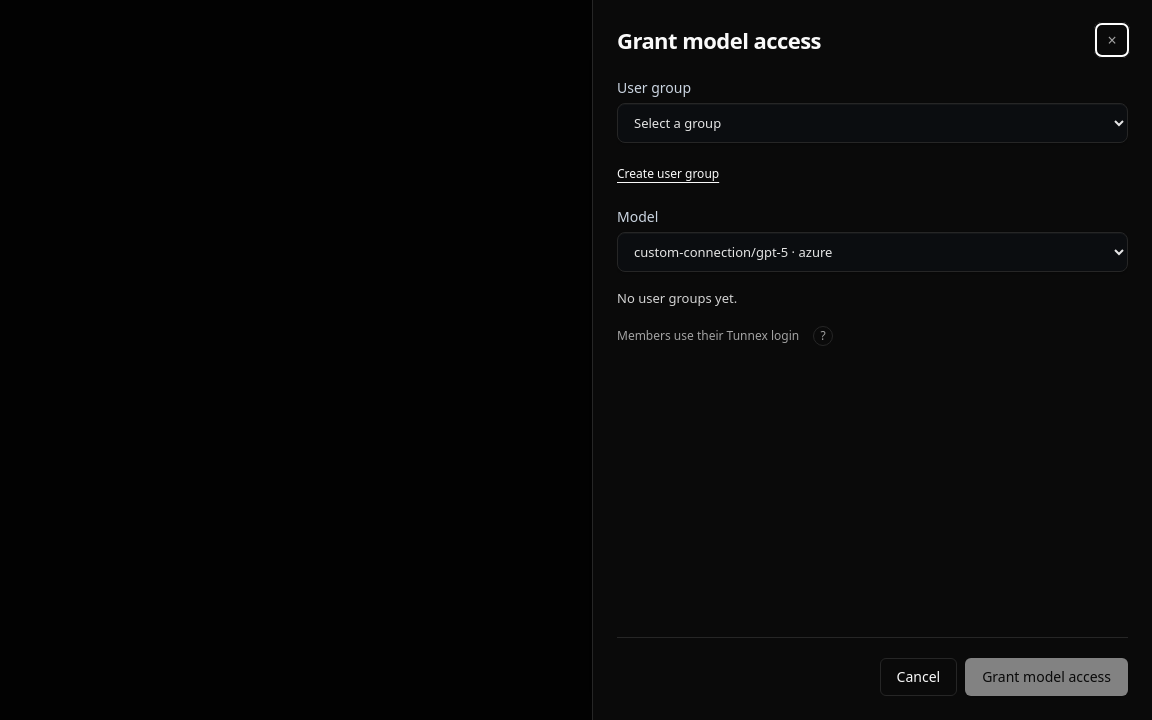
AI user access › keeps the new group selected when inventory refresh needs retry
Click the button "Create user group": (668, 174) [617,159,719,189]
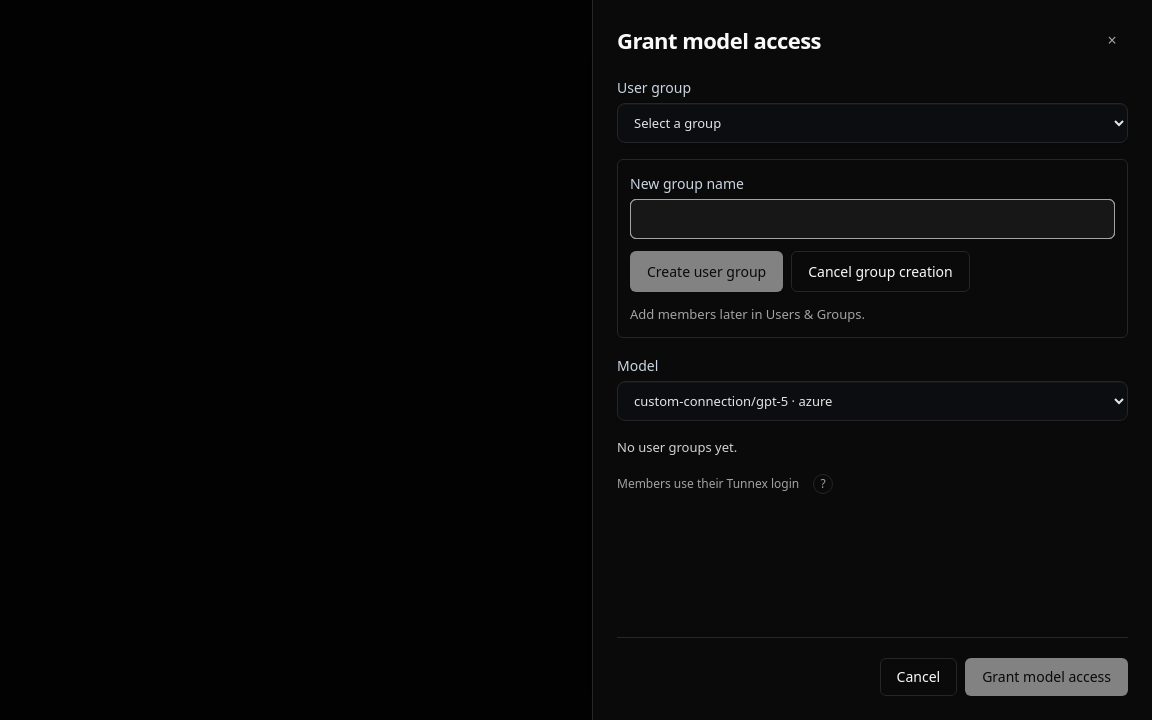
In the field labelled "New group name": (872, 219) [630,199,1115,239], type " Research "
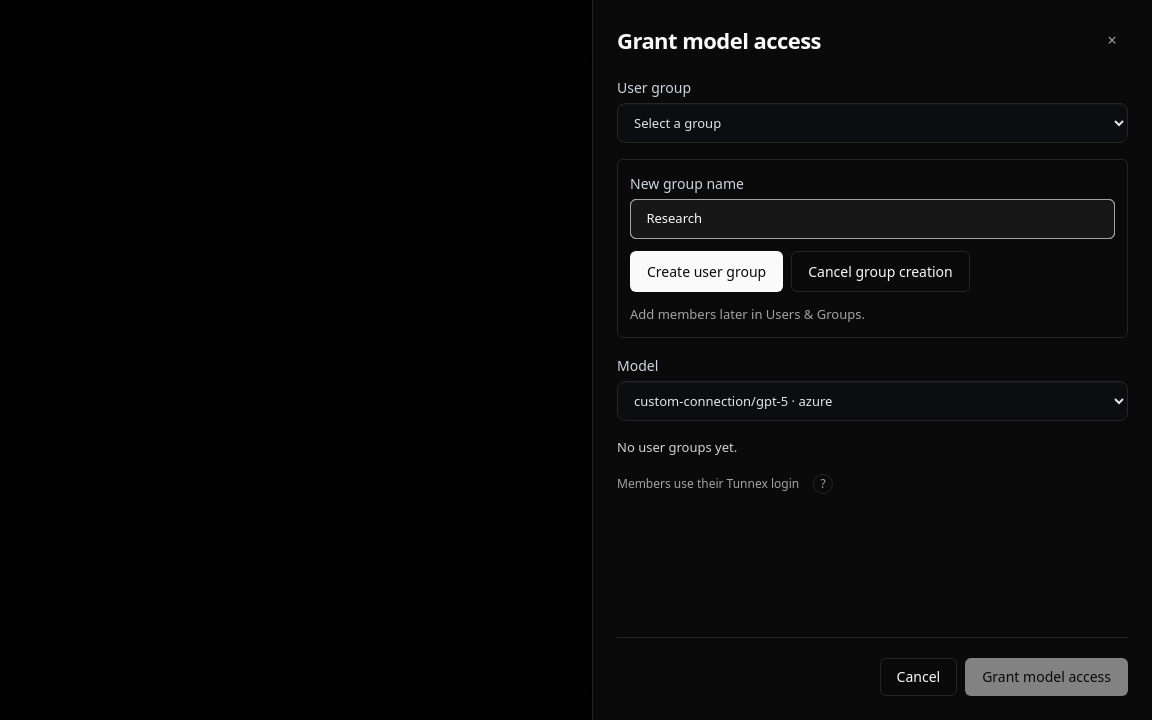
Click the button "Create user group": (707, 271) [630,251,783,292]
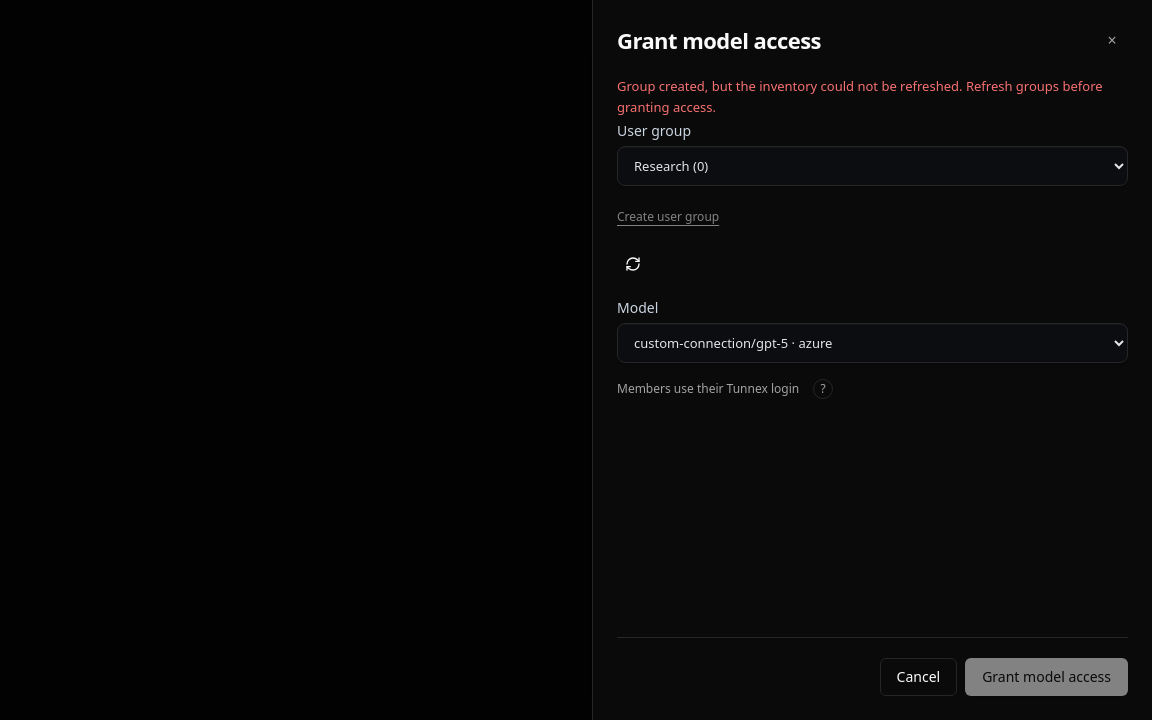
Expected: the button "Grant model access" is disabled, [965,658,1128,696]
Result: the button named "Refresh groups" is shown
Result: the dropdown labelled "User group" shows "Research (0)" at [617,146,1128,186]
Click the button named "Refresh groups": (633, 264) [617,248,649,280]
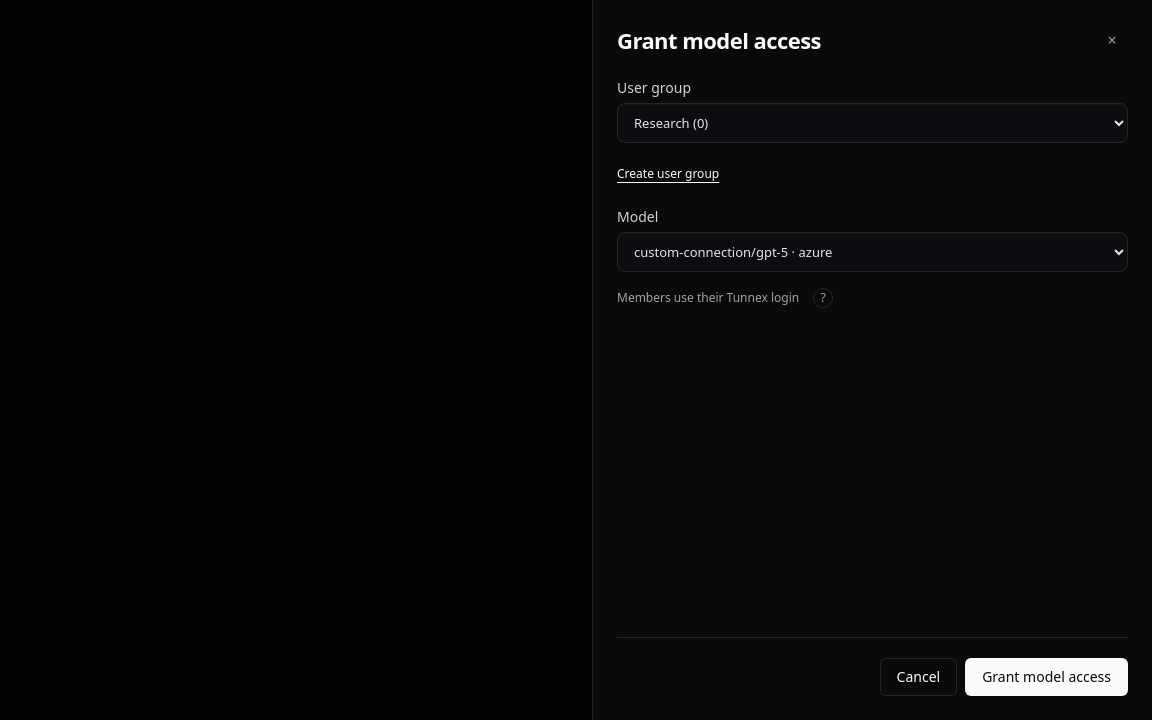
Result: the button "Grant model access" is enabled at [965,658,1128,696]
